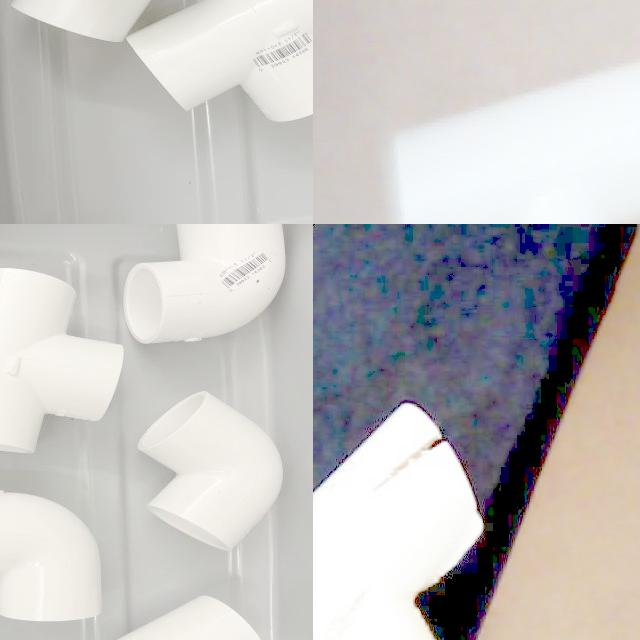Defective: (378, 434, 446, 520)
L Joint: (137, 392, 285, 560), (120, 224, 287, 347), (0, 492, 103, 625)
T Joint: (390, 59, 640, 224), (313, 403, 483, 640), (0, 270, 124, 456)
